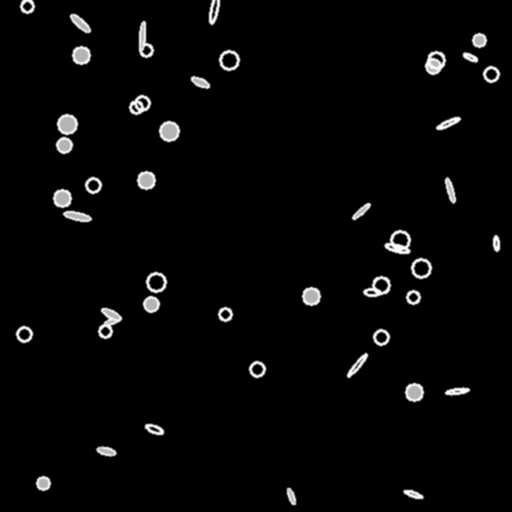pseudomonas: (346, 353, 368, 377), (69, 13, 91, 33), (436, 115, 460, 131), (100, 306, 122, 322), (63, 210, 91, 222), (444, 177, 456, 203), (385, 242, 409, 254), (352, 203, 370, 219), (208, 0, 220, 24), (190, 75, 210, 89), (96, 445, 116, 457), (138, 22, 146, 50), (145, 423, 163, 435), (403, 489, 423, 499), (445, 387, 469, 395), (462, 51, 478, 63), (286, 487, 296, 505), (103, 316, 121, 326), (364, 288, 380, 296), (493, 235, 499, 251)
synechocystis: (391, 231, 409, 249), (58, 115, 76, 133), (412, 259, 430, 277), (160, 122, 178, 140), (147, 273, 165, 291), (220, 51, 238, 69), (373, 277, 389, 293), (73, 47, 89, 63), (303, 288, 319, 304), (428, 52, 444, 68), (54, 190, 70, 206), (138, 172, 154, 188), (406, 384, 422, 400), (484, 67, 498, 81), (135, 96, 149, 110), (86, 178, 100, 192), (57, 138, 71, 152), (374, 330, 388, 344), (144, 297, 158, 311), (426, 59, 440, 73), (250, 362, 264, 376), (17, 327, 31, 341), (473, 34, 485, 46), (407, 291, 419, 303), (140, 44, 152, 56), (99, 325, 111, 337), (21, 0, 33, 12), (37, 477, 49, 489), (219, 308, 231, 320), (130, 101, 142, 113)
